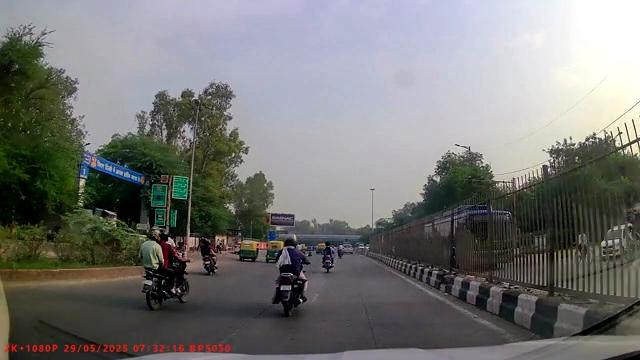motorcycle_with_helmet: (268, 237, 313, 319)
passenger_with_helmet: (138, 229, 195, 312)
